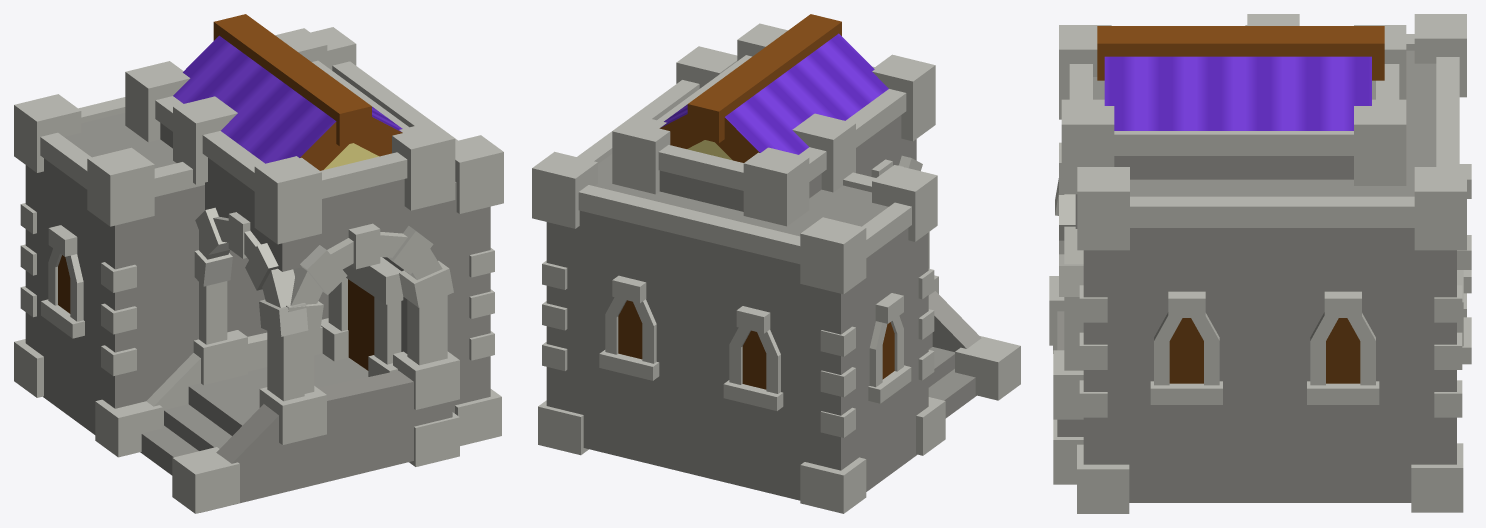
The model's file is library.fbx.
3 renders of one model, left to right at view 1: azimuth 30°, elevation 25°; view 2: azimuth 150°, elevation 25°; view 3: azimuth 270°, elevation 25°, orthographic. The views are drawn at different scales.
Visible parts, largest first — view 1: polySurface340; view 2: polySurface340; view 3: polySurface340.
Boxes of the visible parts, x1=… form: polySurface340: x1=14, y1=14, x2=503, y2=513; polySurface340: x1=532, y1=14, x2=1020, y2=513; polySurface340: x1=1049, y1=14, x2=1471, y2=513.
Size of the model in its own units: 109 by 112 by 107.
1 material, 1 textured.
